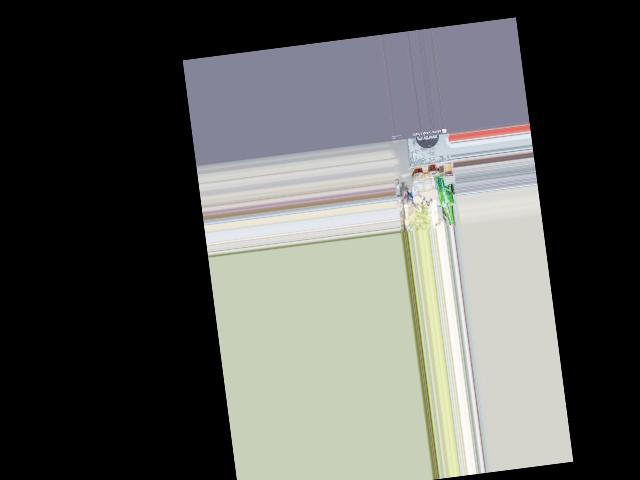beer: (432, 168, 456, 226)
